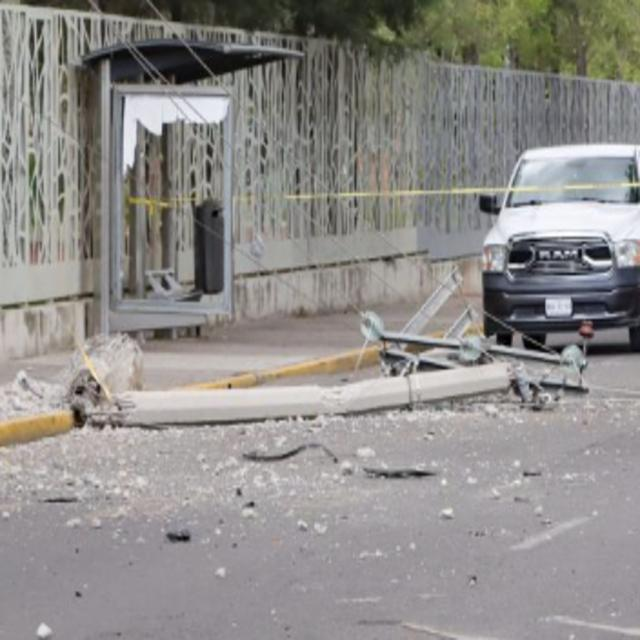Inclined Pole: (69, 268, 595, 427)
